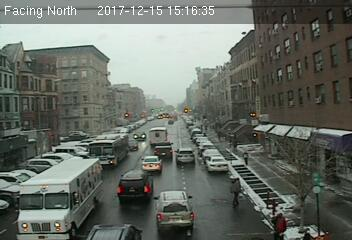bus: (89, 134, 129, 167)
car: (154, 190, 195, 230), (117, 169, 153, 204), (205, 157, 229, 174), (140, 155, 162, 173), (174, 148, 195, 163), (154, 141, 174, 156), (133, 131, 146, 141)
pedestrian: (231, 179, 244, 208), (240, 149, 250, 167)
truck: (15, 157, 107, 238), (148, 127, 167, 145)
